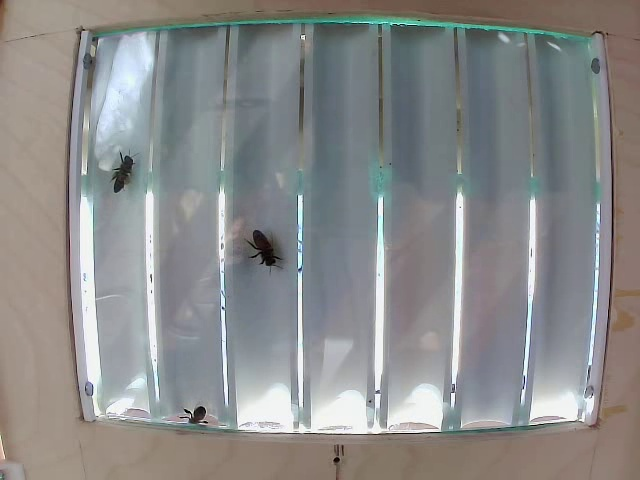bee: (237, 229, 293, 277), (105, 151, 139, 189), (180, 398, 214, 422)
